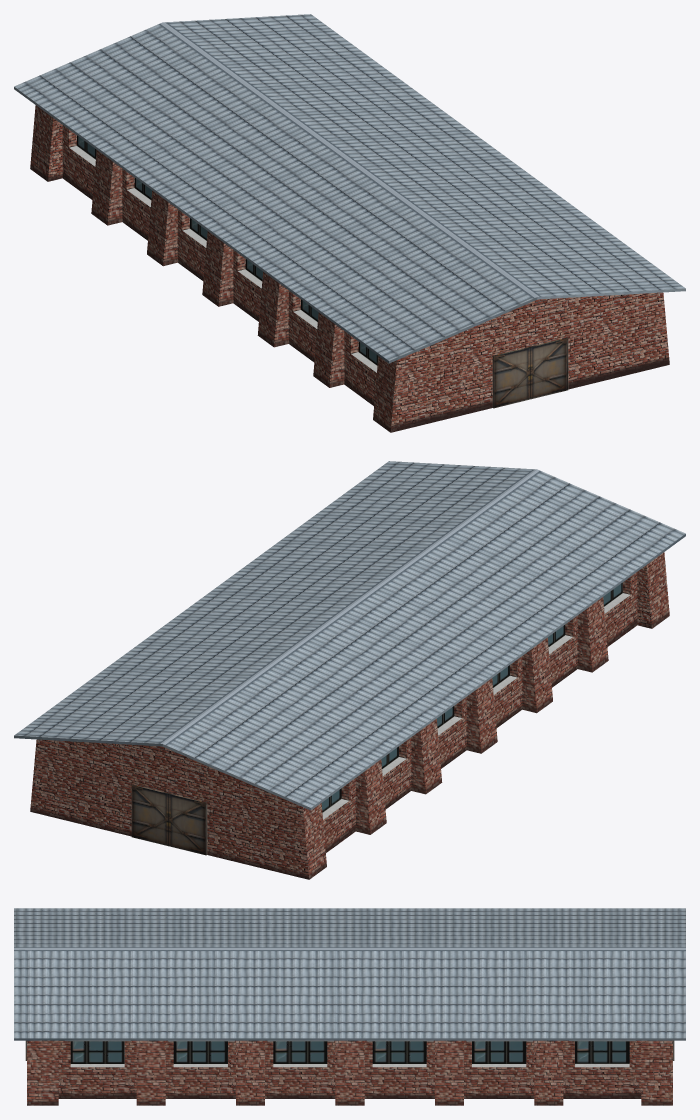
The picture shows the model from 3 angles, top to bottom: view 1: azimuth 30°, elevation 25°; view 2: azimuth 150°, elevation 25°; view 3: azimuth 270°, elevation 25°; orthographic projection. The views are drawn at different scales.
Visible parts, largest first — view 1: warehouse.004; view 2: warehouse.004; view 3: warehouse.004.
Boxes of the visible parts, bbox=[...] form: warehouse.004: bbox=[14, 14, 685, 432]; warehouse.004: bbox=[14, 461, 685, 879]; warehouse.004: bbox=[14, 908, 685, 1105].
Bounding box in the file's own units: 23.78 × 8.2 × 52.
1 material, 1 textured.
